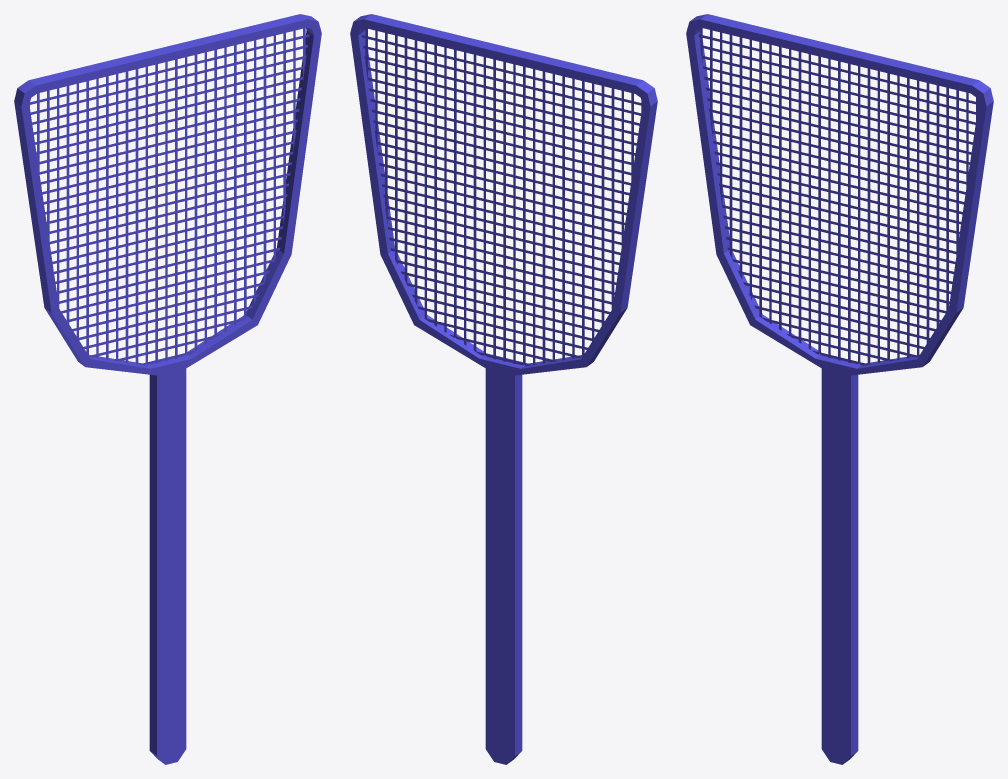
File: FlySwatter.fbx
3 renders of one model, left to right at view 1: azimuth 30°, elevation 25°; view 2: azimuth 150°, elevation 25°; view 3: azimuth 330°, elevation 25°, orthographic.
Parts seen in each view (by area): view 1: plane, frame; view 2: plane, frame; view 3: plane, frame.
Part boxes in pixels (x1,y1,x2,y2): plane: (29,28,309,365); frame: (14,14,321,764); plane: (361,28,642,366); frame: (350,14,657,764); plane: (698,28,978,365); frame: (686,14,993,764).
Size of the model in its own units: 197 by 445 by 8.3.
